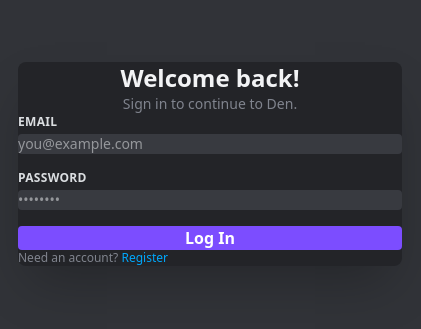
it: AuthPage — register mode › displays a signup error when signUp returns an error
Click the button "Register" at (145, 258), box [121,250,168,266]
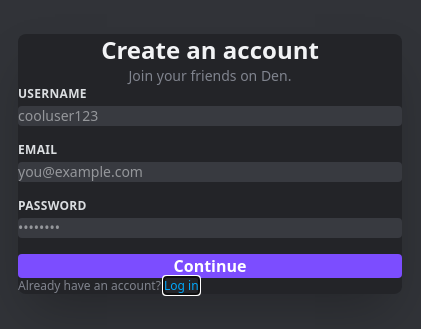
Type "jakeh" into the field with placeholder "cooluser123" at (210, 116), box [18,106,402,126]
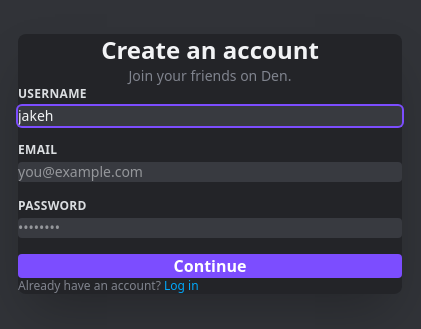
Type "jake@example.com" into the field with placeholder "you@example.com" at (210, 172), box [18,162,402,182]
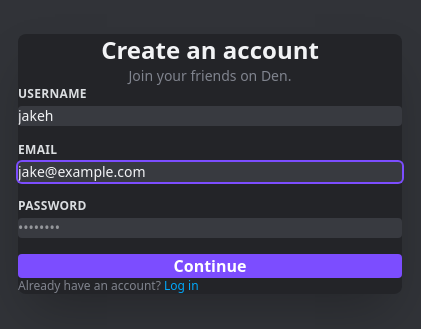
Type "password" into the password field with placeholder "••••••••" at (210, 228), box [18,218,402,238]
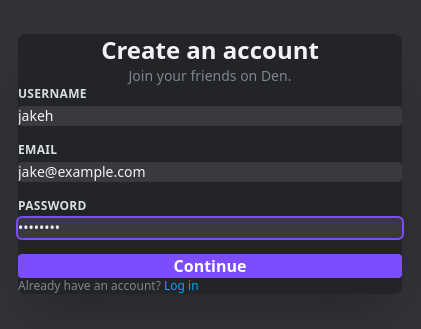
Click the button "Continue" at (210, 266), box [18,254,402,278]
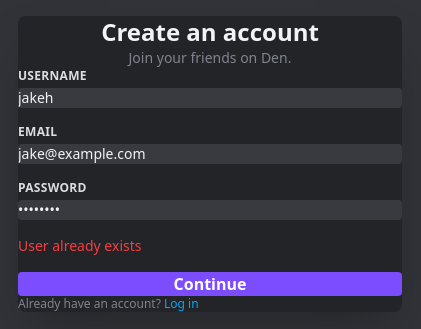
Expected: the text "User already exists" is shown, [18,236,142,255]
